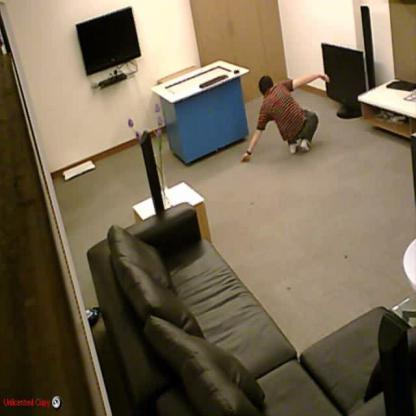Person: (241, 72, 330, 164)
